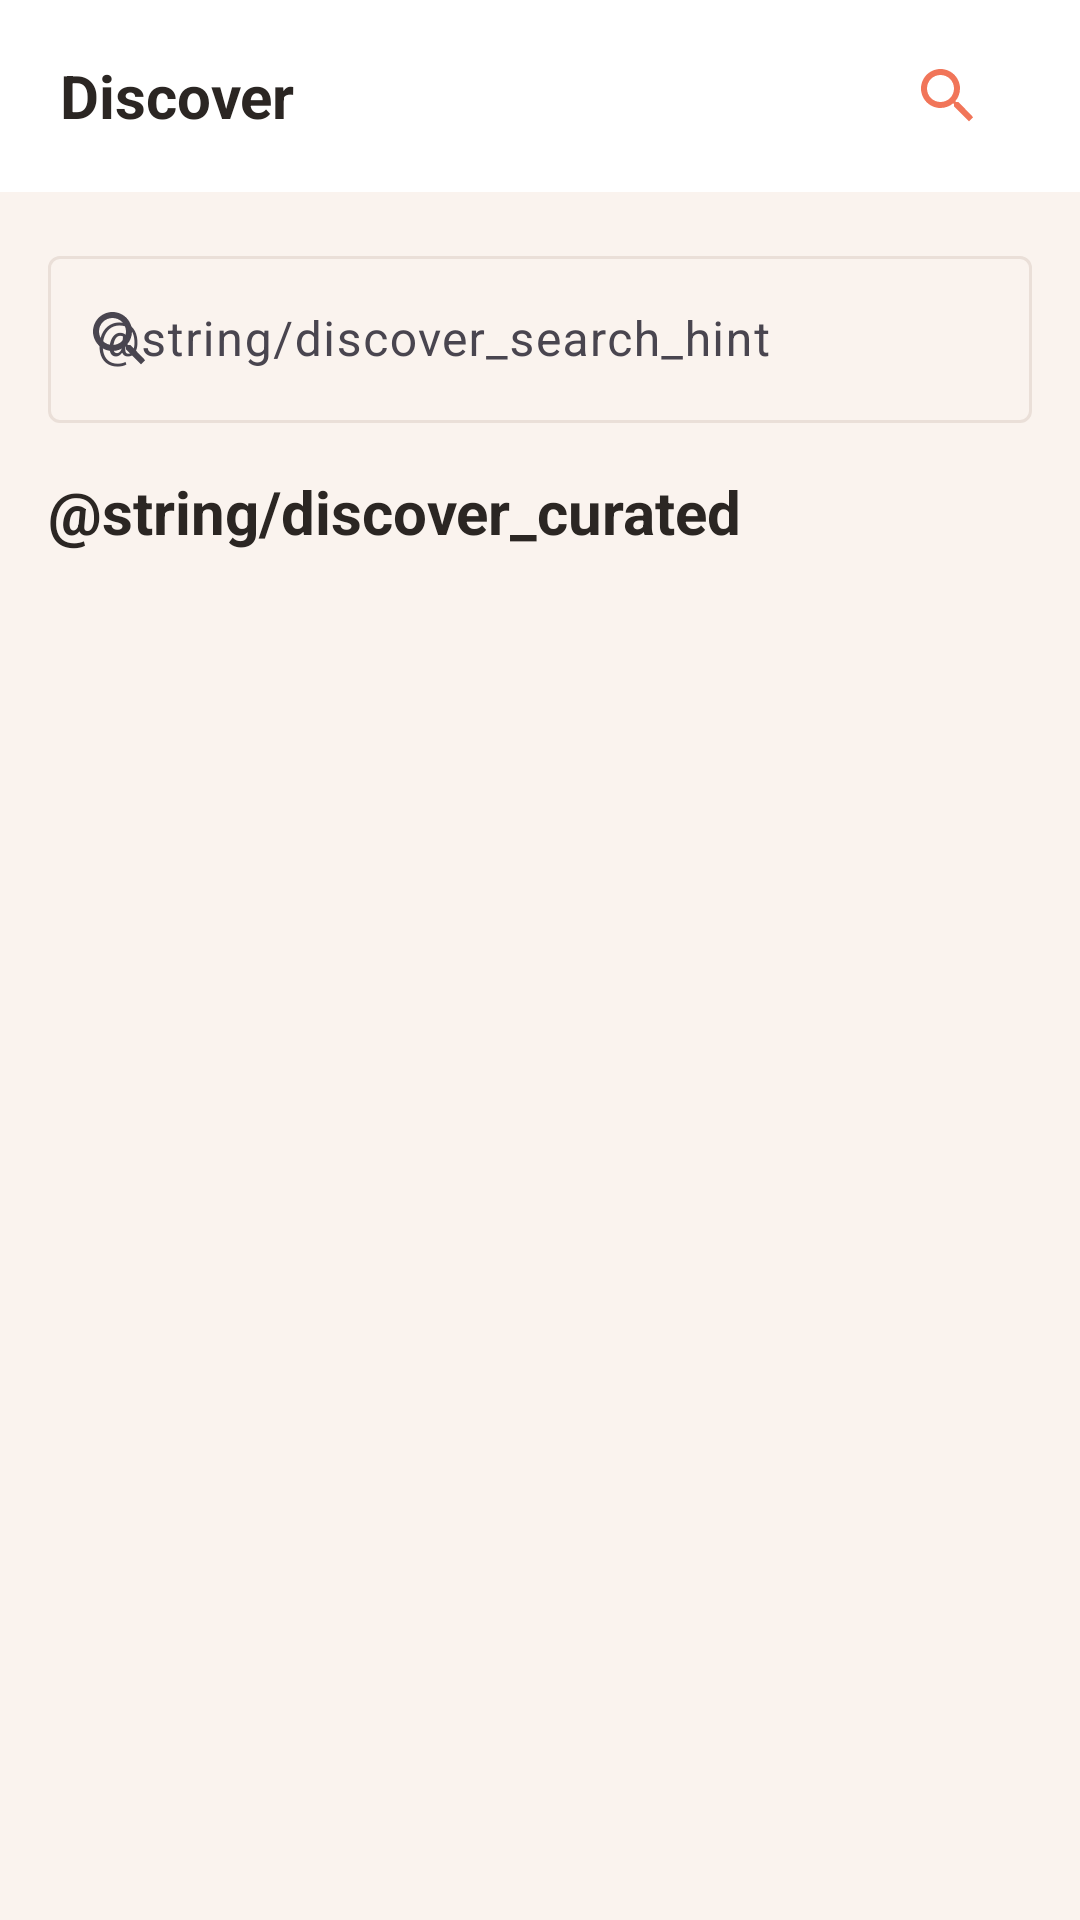

Locate icon controls on the screen. Image size 1080 × 1920, boxes as (x1, y1, x2, y2).
Search: (921, 69, 973, 121)
